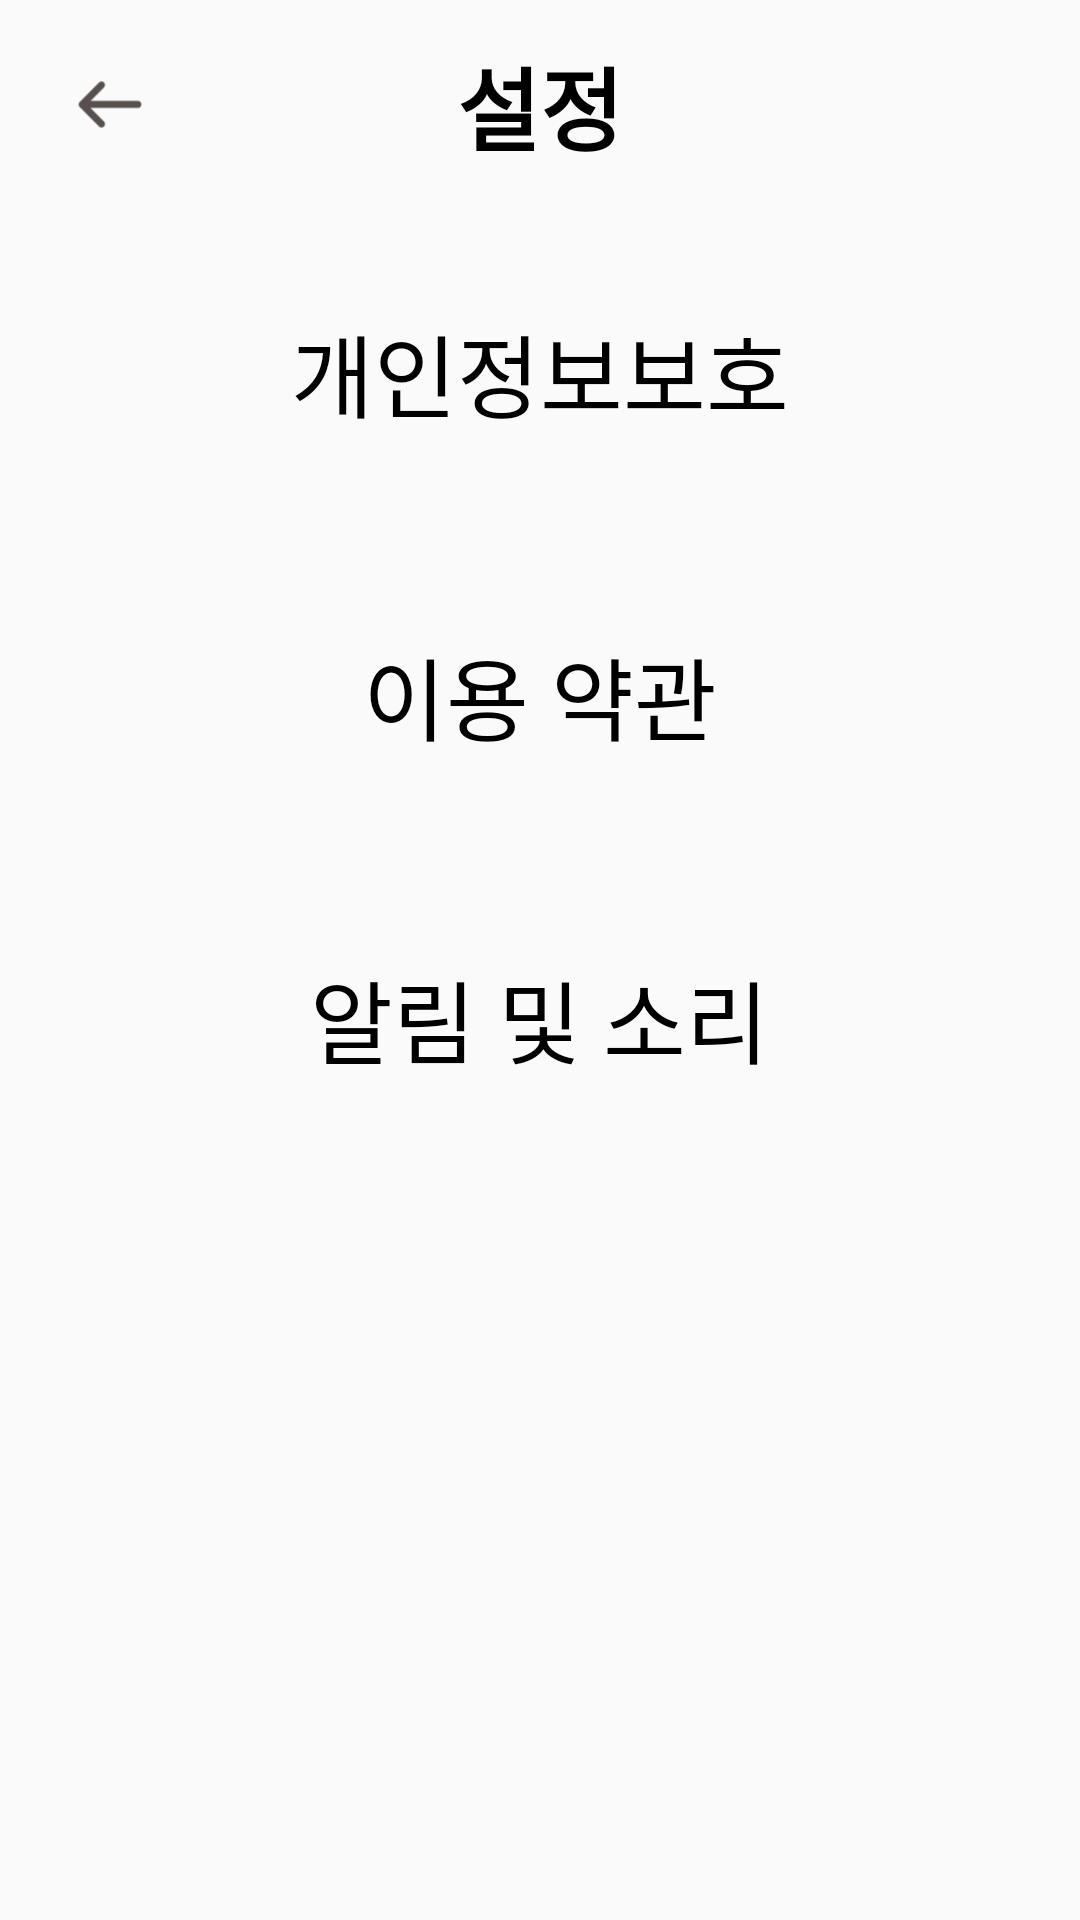

Icons on this 1080*1920 Android screen, each with the point to tap as (x,y):
back arrow: (110,104)
